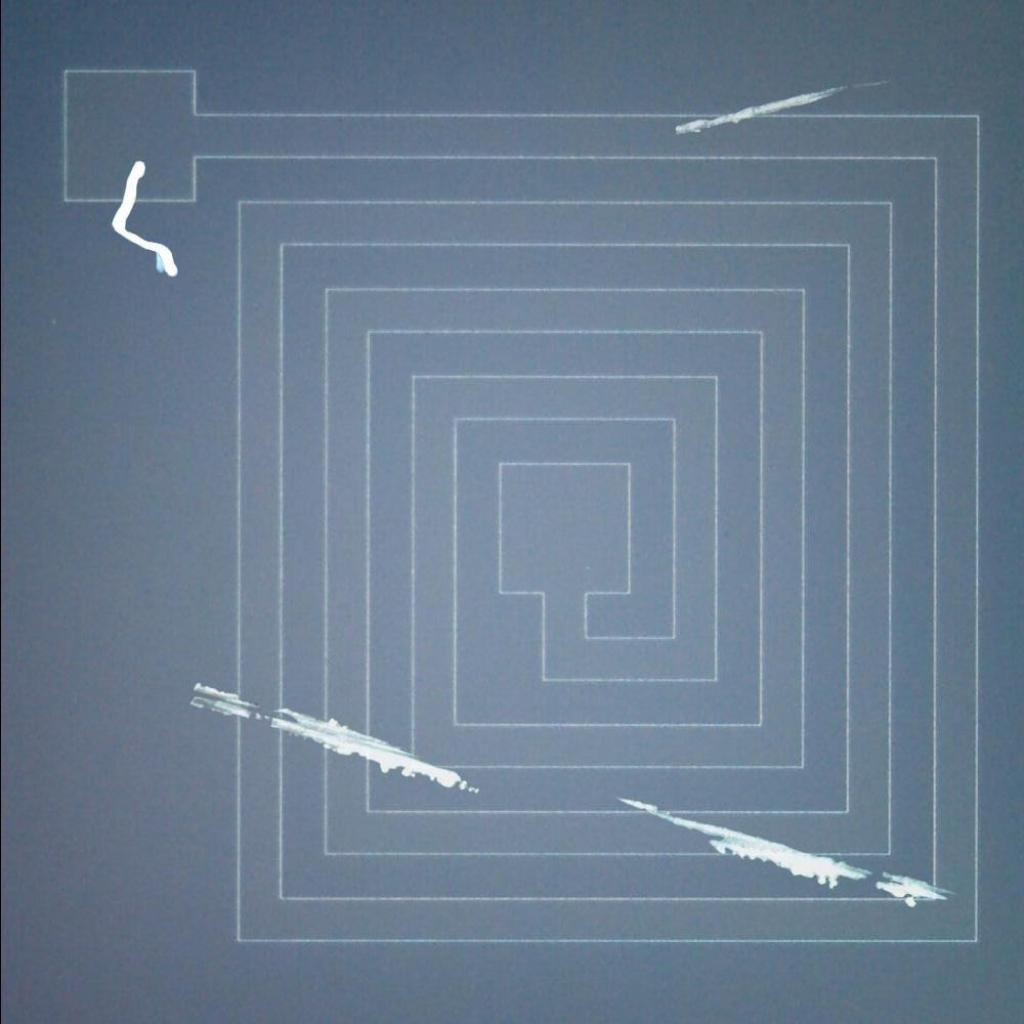line: (100, 154, 188, 287)
scratch: (610, 786, 958, 916), (180, 674, 488, 804), (669, 77, 870, 142)
